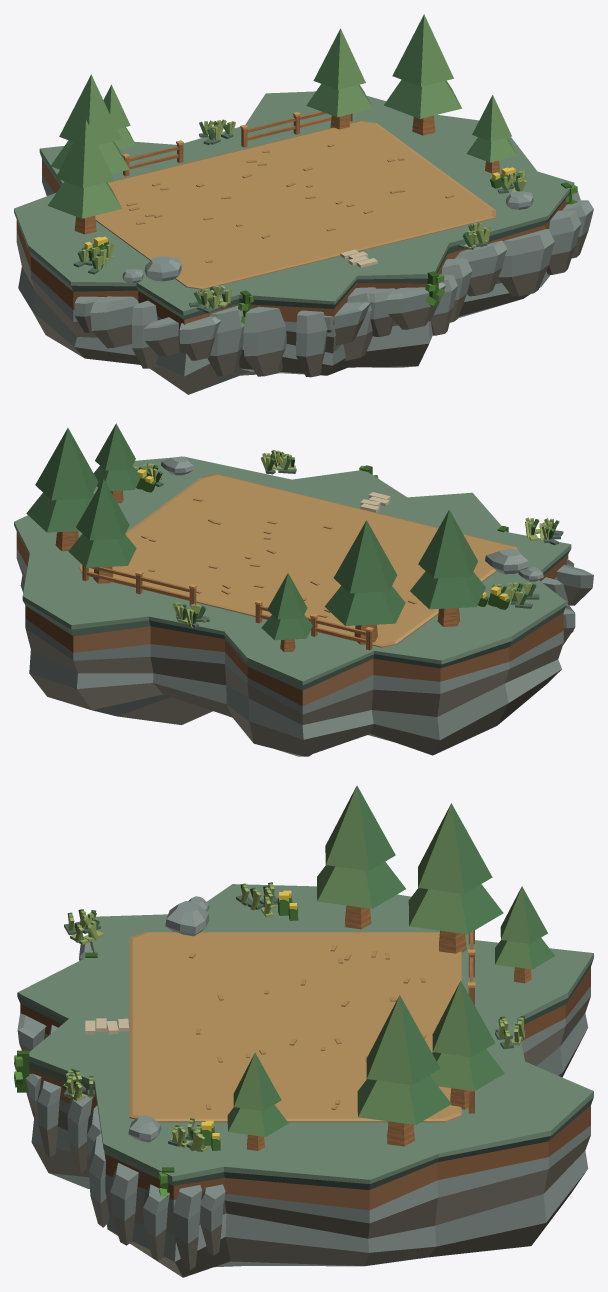
Rendered from island-pines.glb.
The picture shows the model from 3 angles, top to bottom: view 1: azimuth 30°, elevation 25°; view 2: azimuth 150°, elevation 25°; view 3: azimuth 270°, elevation 25°; orthographic projection. The views are drawn at different scales.
Visible parts, largest first — view 1: Island, Yard, tree_single_A.004, tree_single_A, tree_single_A.003, tree_single_A.001, Weathered outcrop.004, Weathered outcrop.013, tree_single_A.005, Weathered outcrop.018, Weathered outcrop.014, Weathered outcrop.012 (+15 smaller); view 2: Island, Yard, tree_single_A.001, tree_single_A, tree_single_A.004, tree_single_A.003, tree_single_A.002, tree_single_A.005, Weathered outcrop.016, Crown, Crown.002, FenceRail.002; view 3: Island, Yard, tree_single_A.001, tree_single_A.004, tree_single_A, tree_single_A.003, tree_single_A.005, tree_single_A.002, Weathered outcrop.001, Weathered outcrop.003, Weathered outcrop.002, Weathered outcrop.006 (+6 smaller).
Part boxes in pixels (x1,y1,x2,y2): Island: (14,91,574,394); Yard: (95,120,495,289); tree_single_A.004: (384,14,461,135); tree_single_A: (47,119,121,234); tree_single_A.003: (306,28,372,129); tree_single_A.001: (50,74,129,173); Weathered outcrop.004: (498,229,554,296); Weathered outcrop.013: (243,306,286,376); tree_single_A.005: (466,95,517,173); Weathered outcrop.018: (90,296,138,348); Weathered outcrop.014: (207,306,244,376); Weathered outcrop.012: (296,310,327,377); Island: (14,456,571,756); Yard: (79,473,517,647); tree_single_A.001: (324,520,405,644); tree_single_A: (410,509,485,626); tree_single_A.004: (26,428,98,551); tree_single_A.003: (68,478,136,583); tree_single_A.002: (261,573,312,652); tree_single_A.005: (93,423,141,503); Weathered outcrop.016: (556,564,593,605); Crown: (485,548,529,574); Crown.002: (161,456,193,475); FenceRail.002: (87,571,189,600); Island: (17,884,593,1277); Yard: (129,932,461,1122); tree_single_A.001: (408,803,503,953); tree_single_A.004: (357,995,451,1146); tree_single_A: (317,785,405,929); tree_single_A.003: (429,981,504,1109); tree_single_A.005: (227,1052,288,1150); tree_single_A.002: (495,886,554,983); Weathered outcrop.001: (173,1185,201,1270); Weathered outcrop.003: (110,1163,138,1245); Weathered outcrop.002: (143,1184,169,1260); Weathered outcrop.006: (67,1093,92,1173).
Size of the model in its own units: 9.27 by 4.3 by 7.51.
41 materials, 2 textured.
